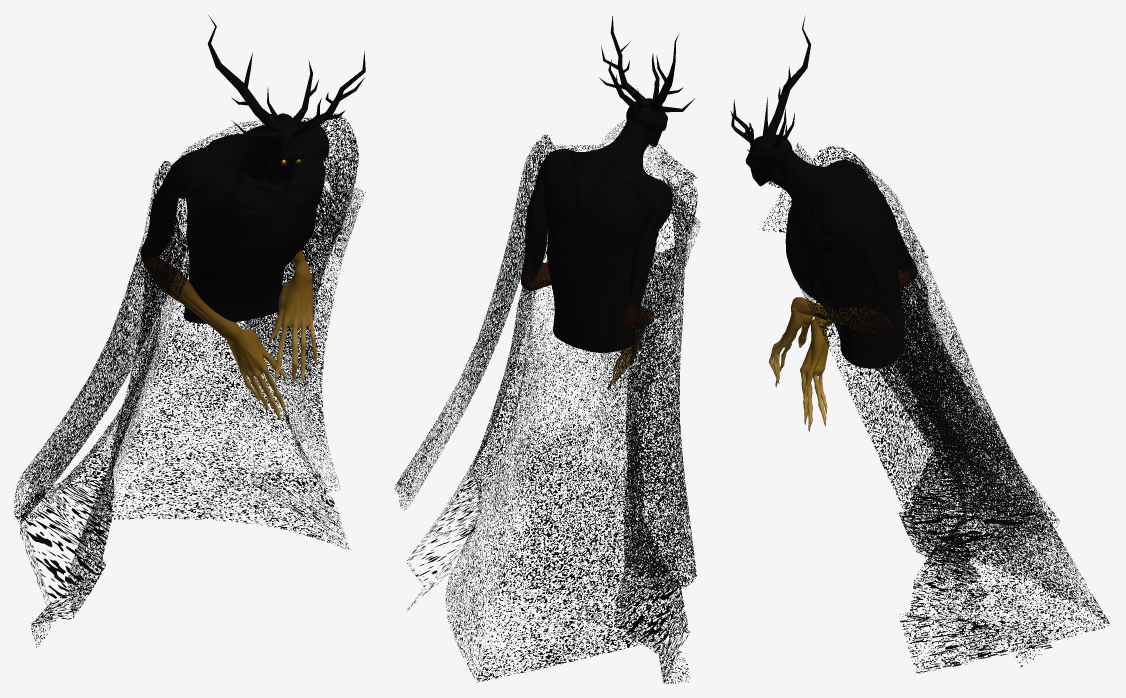
Rendered from Hidden_King.glb.
3 views of the same model, side by side, from view 1: azimuth 30°, elevation 25°; view 2: azimuth 150°, elevation 25°; view 3: azimuth 270°, elevation 25° (orthographic). The views are drawn at different scales.
Visible parts, largest first — view 1: models\npc\patron_amber\patron_amber.vmdl_c.patron_amber_coa, models\npc\patron_amber\patron_amber.vmdl_c.patron_amber_bas; view 2: models\npc\patron_amber\patron_amber.vmdl_c.patron_amber_coa, models\npc\patron_amber\patron_amber.vmdl_c.patron_amber_bas; view 3: models\npc\patron_amber\patron_amber.vmdl_c.patron_amber_coa, models\npc\patron_amber\patron_amber.vmdl_c.patron_amber_bas.
Boxes of the visible parts, left/top/right/bottom form: models\npc\patron_amber\patron_amber.vmdl_c.patron_amber_coa: left=14, top=113, right=365, bottom=647; models\npc\patron_amber\patron_amber.vmdl_c.patron_amber_bas: left=140, top=15, right=365, bottom=419; models\npc\patron_amber\patron_amber.vmdl_c.patron_amber_coa: left=394, top=115, right=700, bottom=683; models\npc\patron_amber\patron_amber.vmdl_c.patron_amber_bas: left=521, top=16, right=694, bottom=387; models\npc\patron_amber\patron_amber.vmdl_c.patron_amber_coa: left=759, top=142, right=1109, bottom=673; models\npc\patron_amber\patron_amber.vmdl_c.patron_amber_bas: left=730, top=16, right=916, bottom=431.
Bounding box in the file's own units: 24.76 × 50.77 × 27.33.
Materials: 5 (2 with a texture image).
